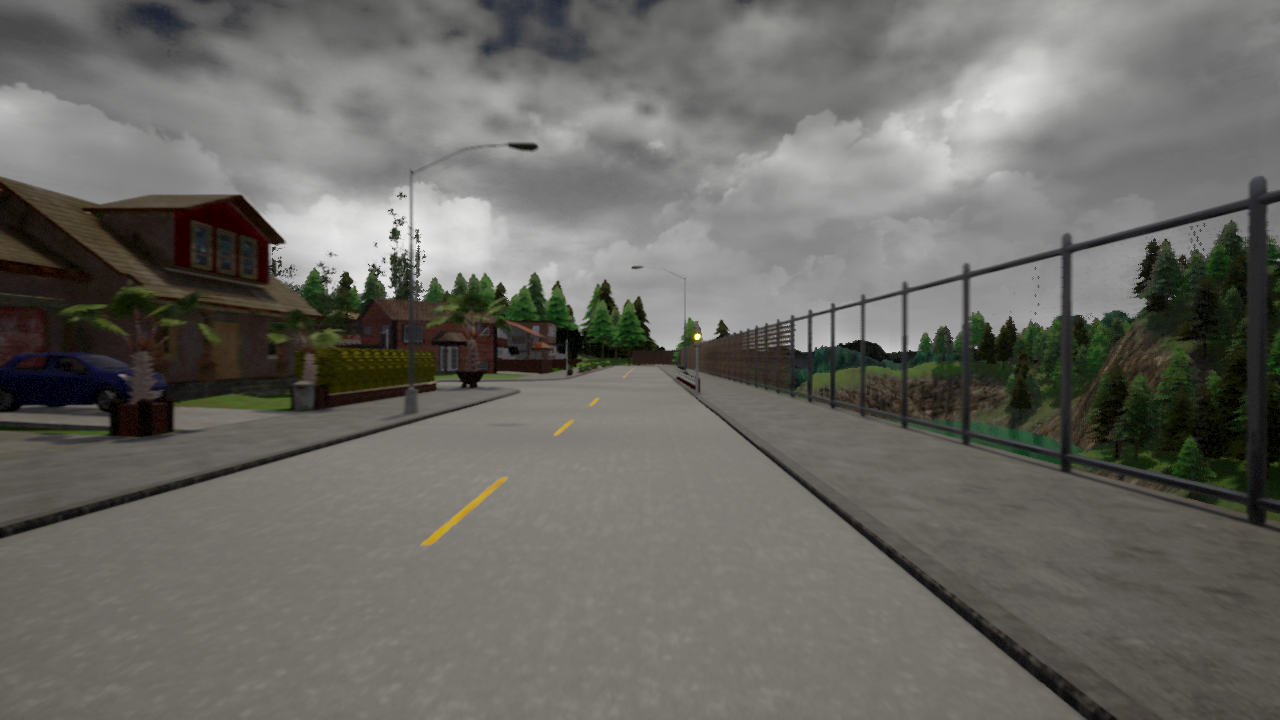yellow: (692, 325, 702, 348)
